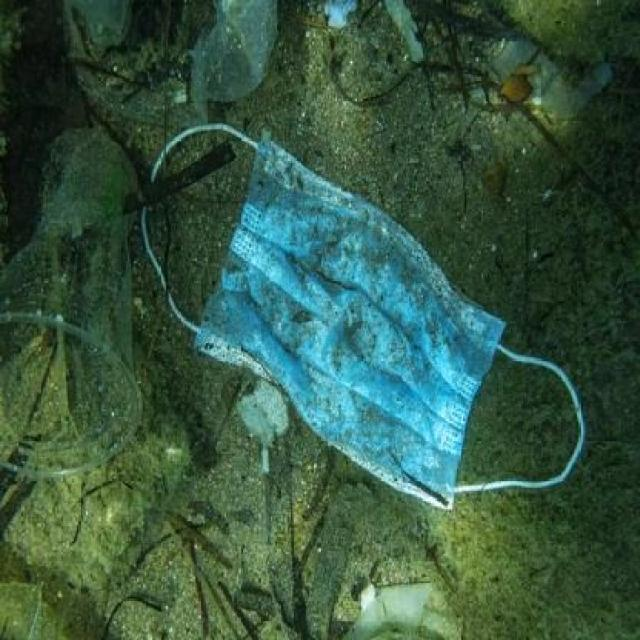Mask: (138, 120, 591, 515)
